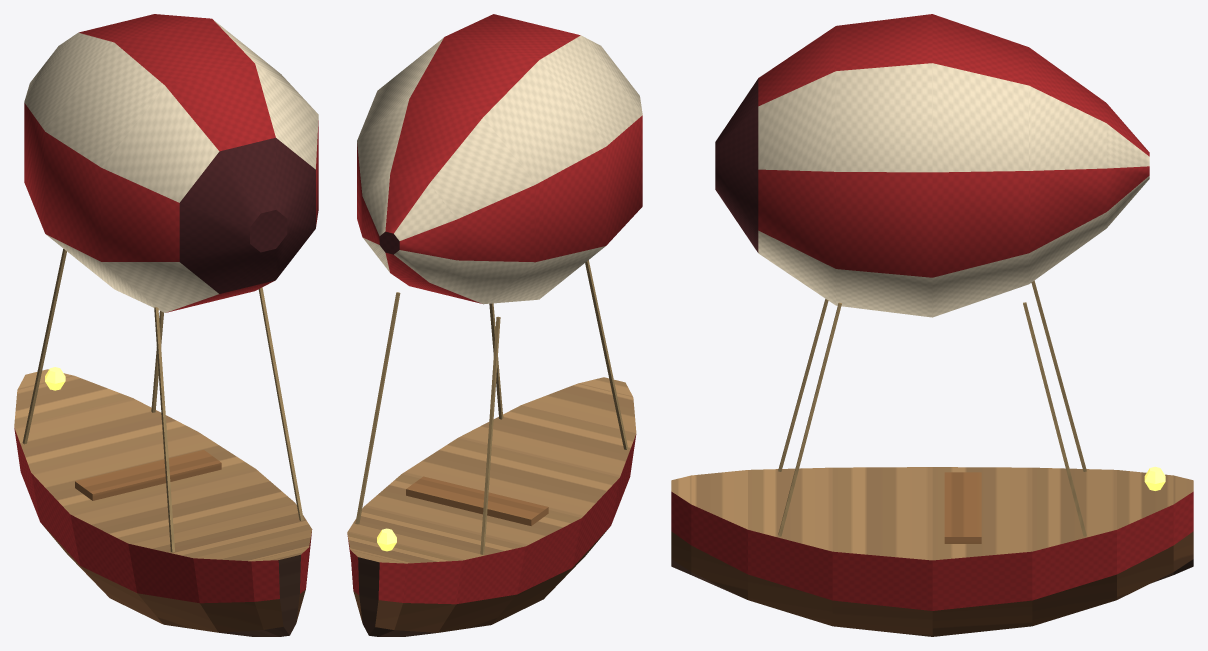
Rendered from SM_Ship_Lifeboat_HQ.glb.
3 renders of one model, left to right at view 1: azimuth 30°, elevation 25°; view 2: azimuth 150°, elevation 25°; view 3: azimuth 270°, elevation 25°, orthographic. The views are drawn at different scales.
Visible parts, largest first — view 1: SM_Ship_Lifeboat_HQ; view 2: SM_Ship_Lifeboat_HQ; view 3: SM_Ship_Lifeboat_HQ.
Boxes of the visible parts, x1,y1,x2,y2 form: SM_Ship_Lifeboat_HQ: (14,14,318,636); SM_Ship_Lifeboat_HQ: (347,14,642,636); SM_Ship_Lifeboat_HQ: (671,14,1193,636).
Bounding box in the file's own units: 1.83 × 4.21 × 3.4.
1 material, 1 textured.
